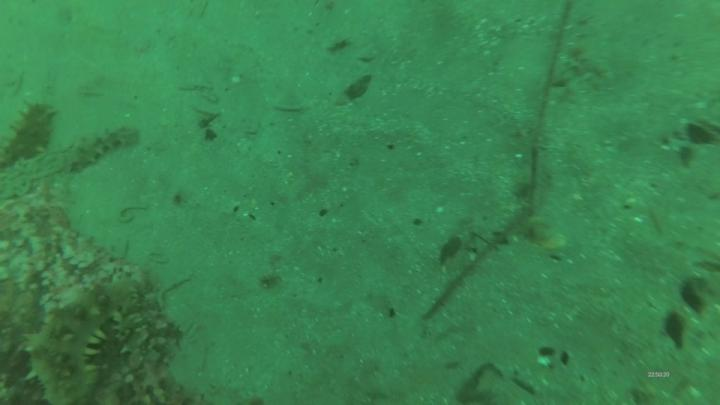holothurian: (21, 274, 148, 405), (59, 123, 144, 180), (1, 101, 58, 174)
